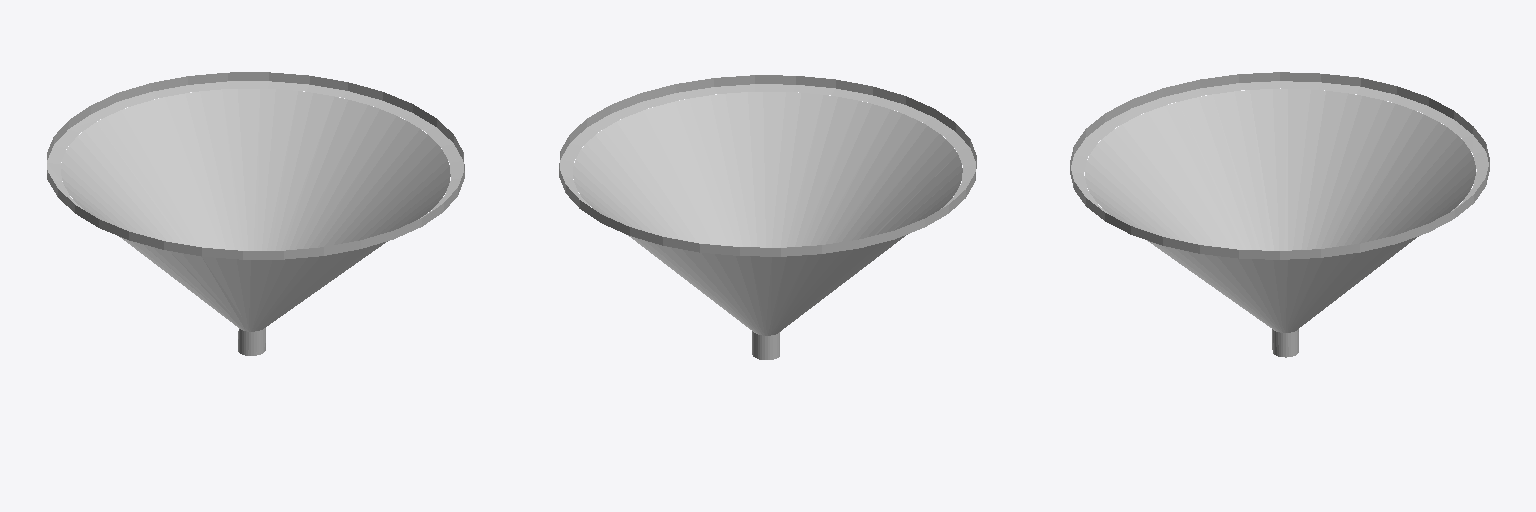
Rendered from Funnelfix.obj.
3 renders of one model, left to right at view 1: azimuth 30°, elevation 25°; view 2: azimuth 150°, elevation 25°; view 3: azimuth 270°, elevation 25°, orthographic.
Visible parts, largest first — view 1: Circle; view 2: Circle; view 3: Circle.
Part boxes in pixels (left/top/right/bottom): Circle: left=47, top=72, right=464, bottom=355; Circle: left=559, top=75, right=976, bottom=359; Circle: left=1070, top=72, right=1489, bottom=357.
Bounding box in the file's own units: 29.22 × 14.87 × 29.38.